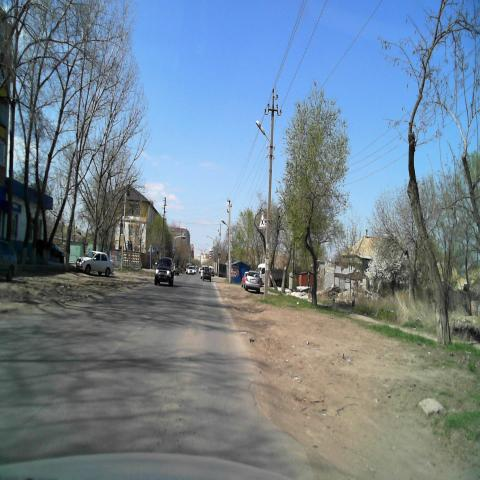1_6: (258, 211, 266, 229)
